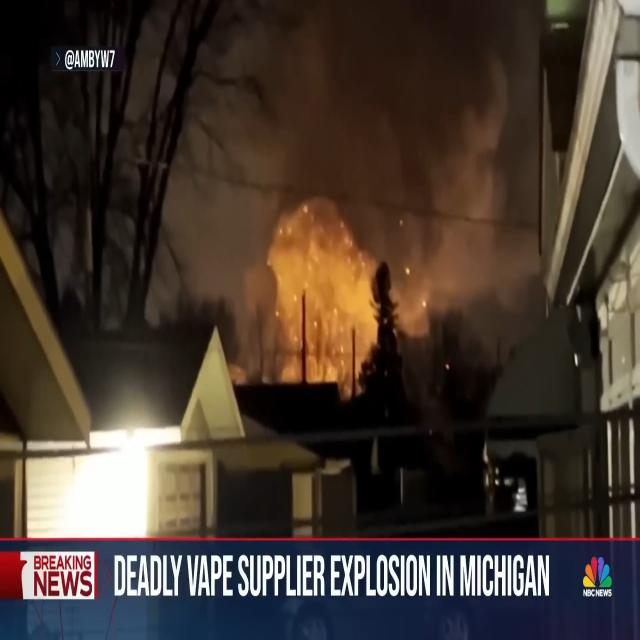fire: (256, 199, 420, 408)
